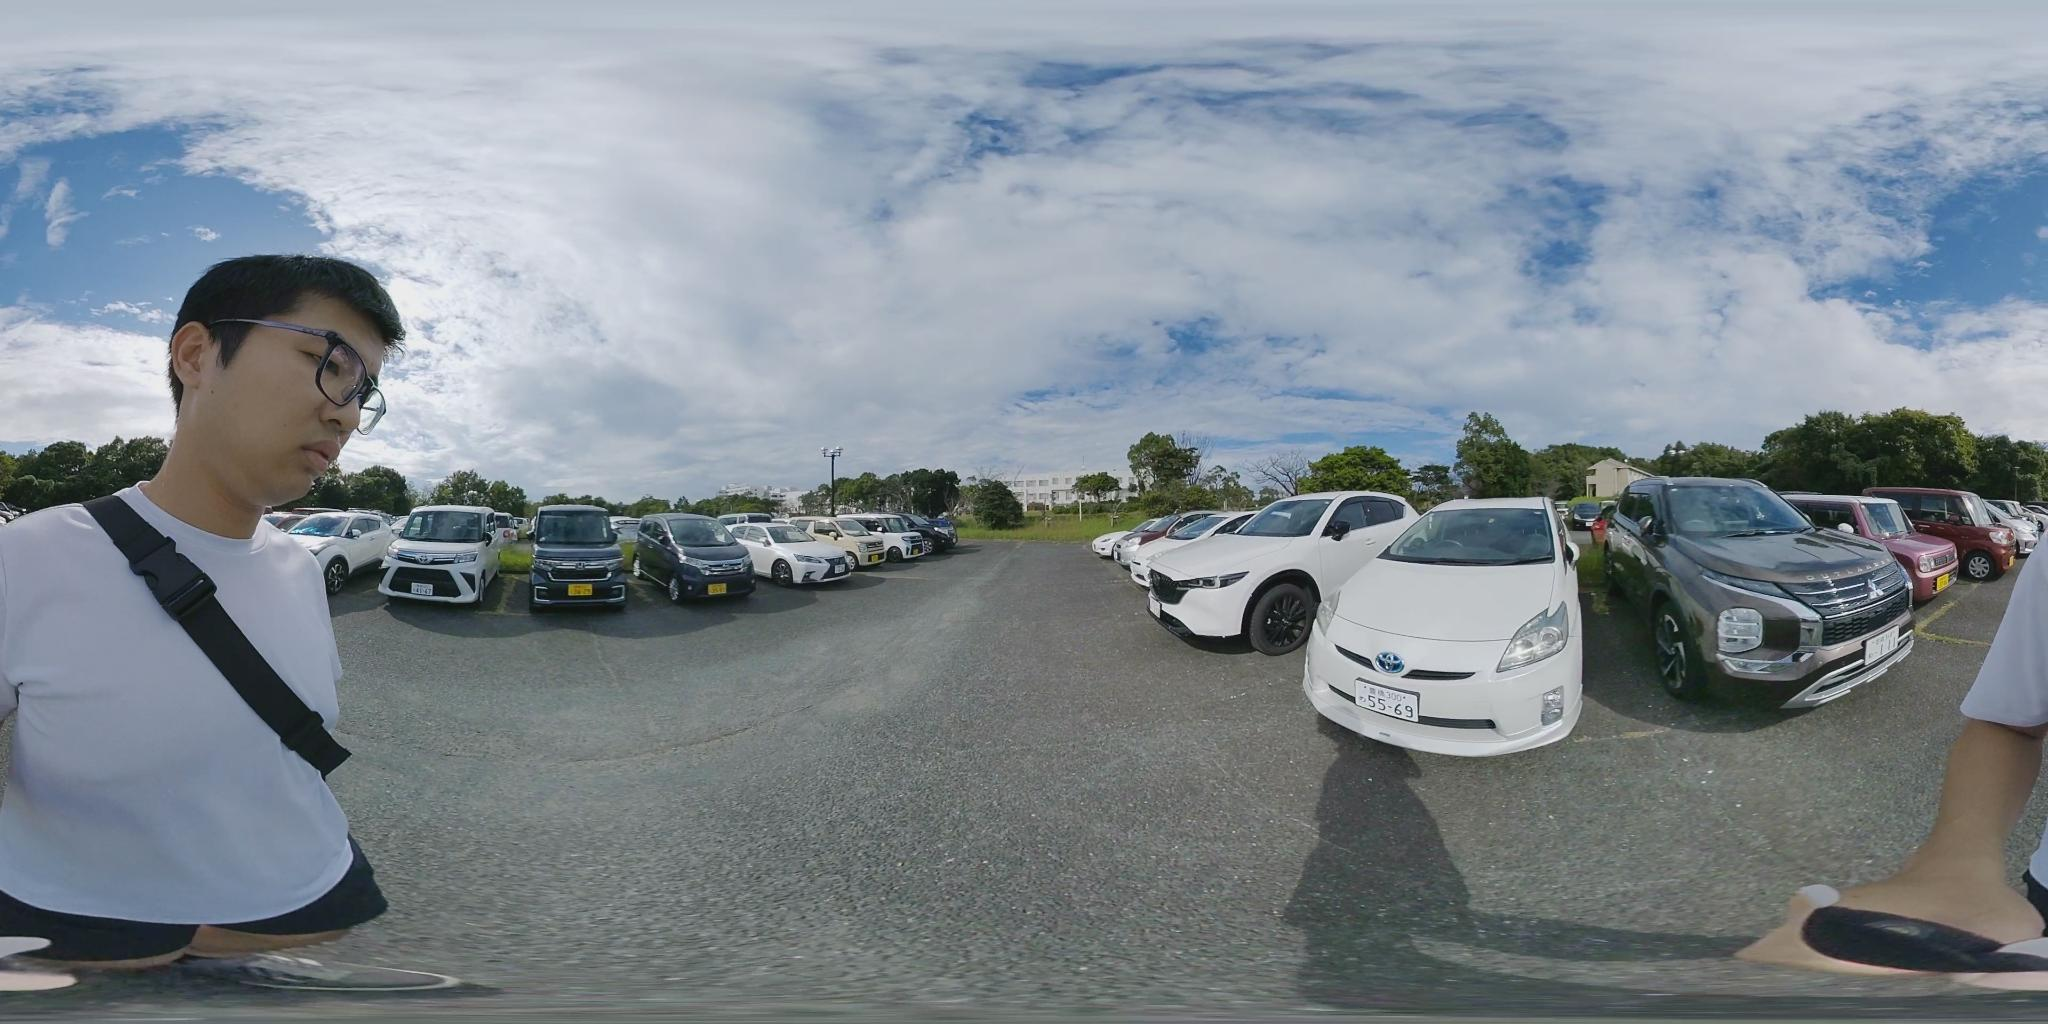car: (1580, 477, 1929, 721), (1309, 488, 1590, 748), (1114, 494, 1424, 658), (1776, 492, 1960, 602), (1863, 485, 2028, 579), (384, 504, 532, 606), (622, 517, 764, 601), (273, 512, 401, 585), (724, 520, 865, 584), (1095, 512, 1243, 568), (823, 515, 950, 563)
